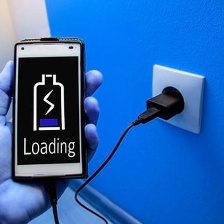phone: (9, 36, 89, 184)
